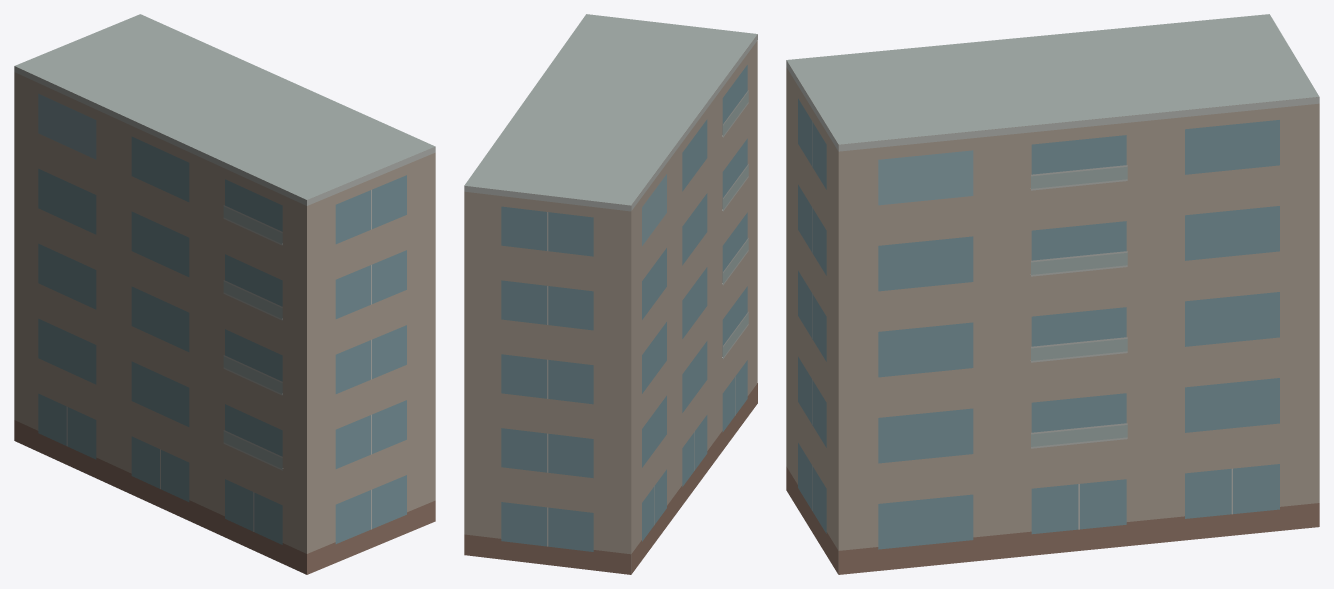
Rendered from survey-upis-32493042.glb.
3 renders of one model, left to right at view 1: azimuth 30°, elevation 25°; view 2: azimuth 150°, elevation 25°; view 3: azimuth 270°, elevation 25°, orthographic. The views are drawn at different scales.
Visible parts, largest first — view 1: survey-upis-32493042.tmp; view 2: survey-upis-32493042.tmp; view 3: survey-upis-32493042.tmp.
Part boxes in pixels (x1=…): survey-upis-32493042.tmp: x1=14, y1=14, x2=435, y2=574; survey-upis-32493042.tmp: x1=464, y1=14, x2=757, y2=574; survey-upis-32493042.tmp: x1=786, y1=14, x2=1319, y2=574.
Size of the model in its own units: 9.91 by 15.2 by 17.08.
